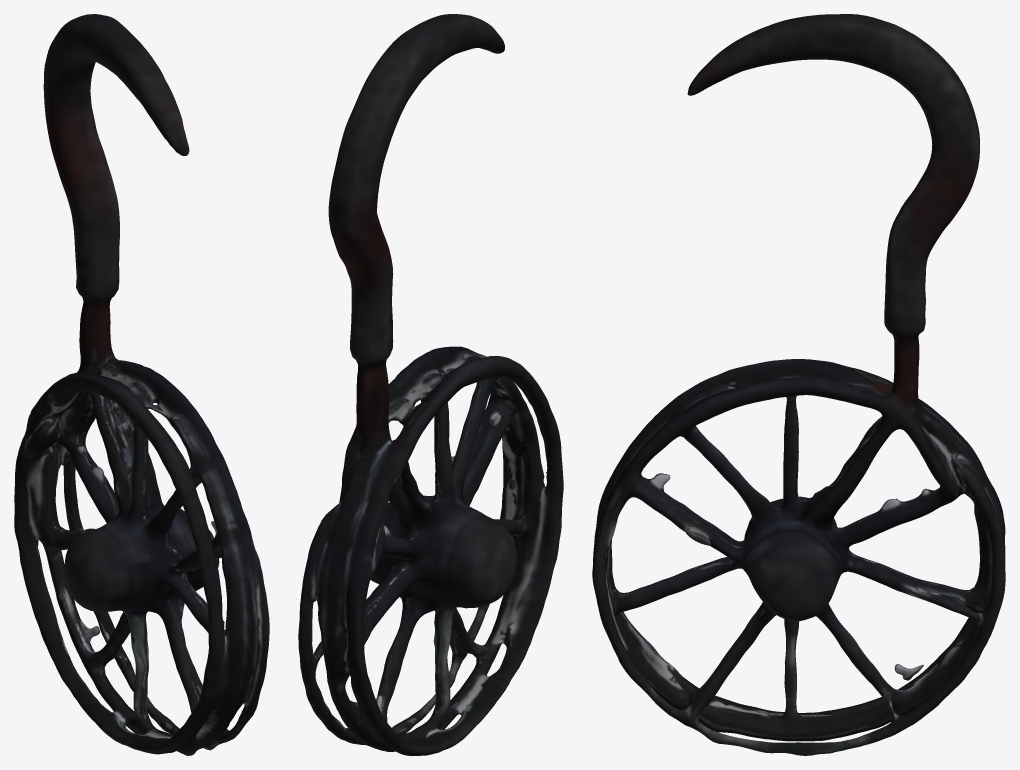
Rendered from 6ca6f6df98ea_butcher_hook_with_w.fbx.
3 renders of one model, left to right at view 1: azimuth 30°, elevation 25°; view 2: azimuth 150°, elevation 25°; view 3: azimuth 270°, elevation 25°, orthographic. The views are drawn at different scales.
Parts seen in each view (by area): view 1: mesh; view 2: mesh; view 3: mesh.
Boxes of the visible parts, x1,y1,x2,y2 form: mesh: [14, 14, 269, 755]; mesh: [298, 14, 563, 755]; mesh: [592, 14, 1005, 755].
Bounding box in the file's own units: 20.03 × 99.97 × 52.01.
